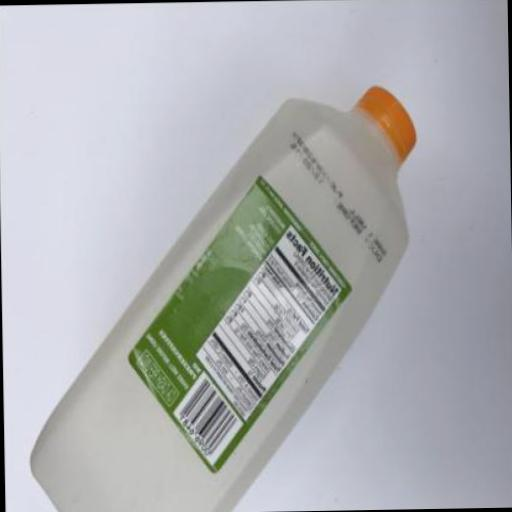plastic: (19, 87, 421, 512), (350, 86, 414, 168)
